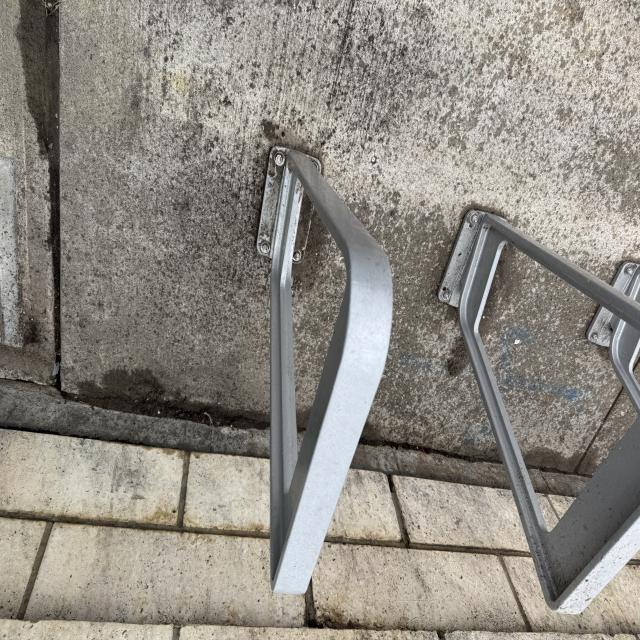Bicycle Rack: (441, 205, 640, 608), (260, 145, 393, 615)
